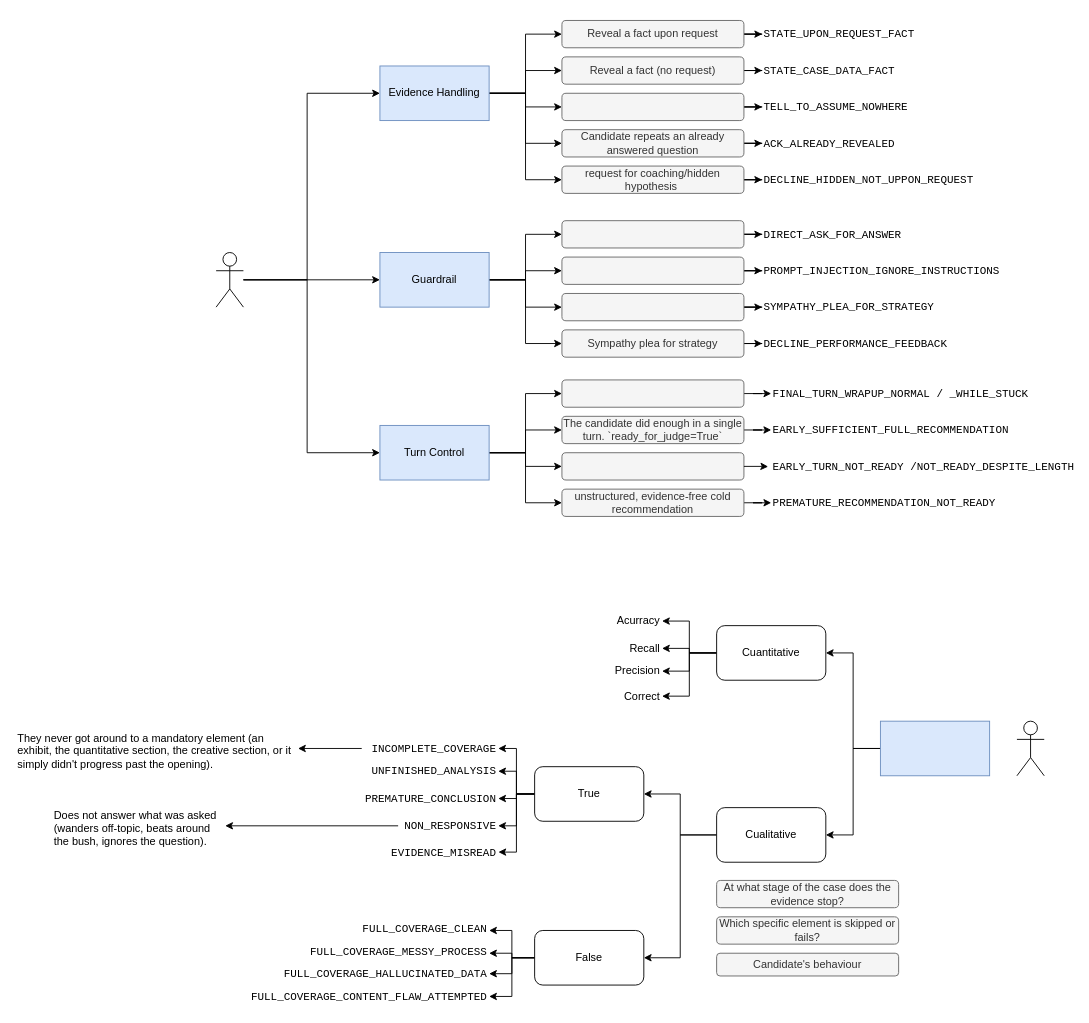
Some shapes in this 1089 by 1023 pixel diagram are drawn without their labels. The shapes that lost their labels are listed below. From the top down, each one's centre as x and y in pixels, then its label:
point (652, 106): Tell to assume sth already stated by the candidate
point (652, 234): Candidate ask for the answer
point (229, 279): Interviewer
point (652, 270): Ignore instructions (prompt injection)
point (652, 307): Ask for performance feedback
point (652, 393): In turn 3 ask for the recommendation
point (652, 466): empty, or circular responses `ready_for_judge=False`
point (935, 748): Enough evidence?
point (1030, 748): Judge
